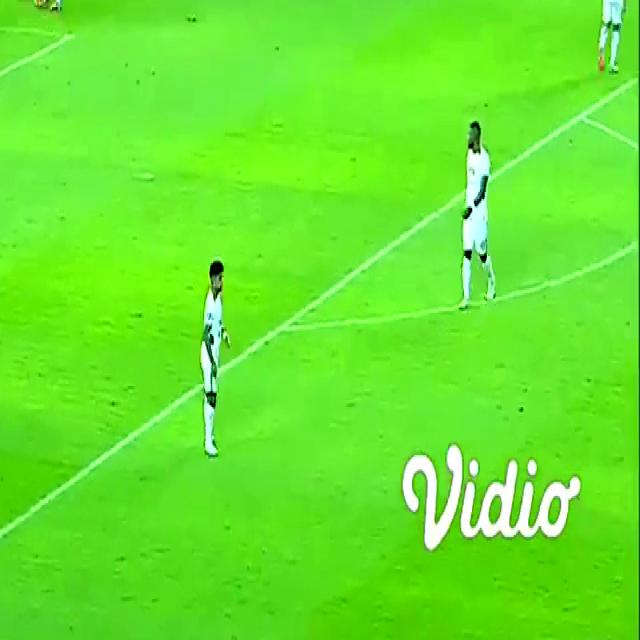soccer-player: (185, 251, 241, 465), (446, 110, 505, 293), (585, 0, 640, 82), (36, 0, 71, 9)
